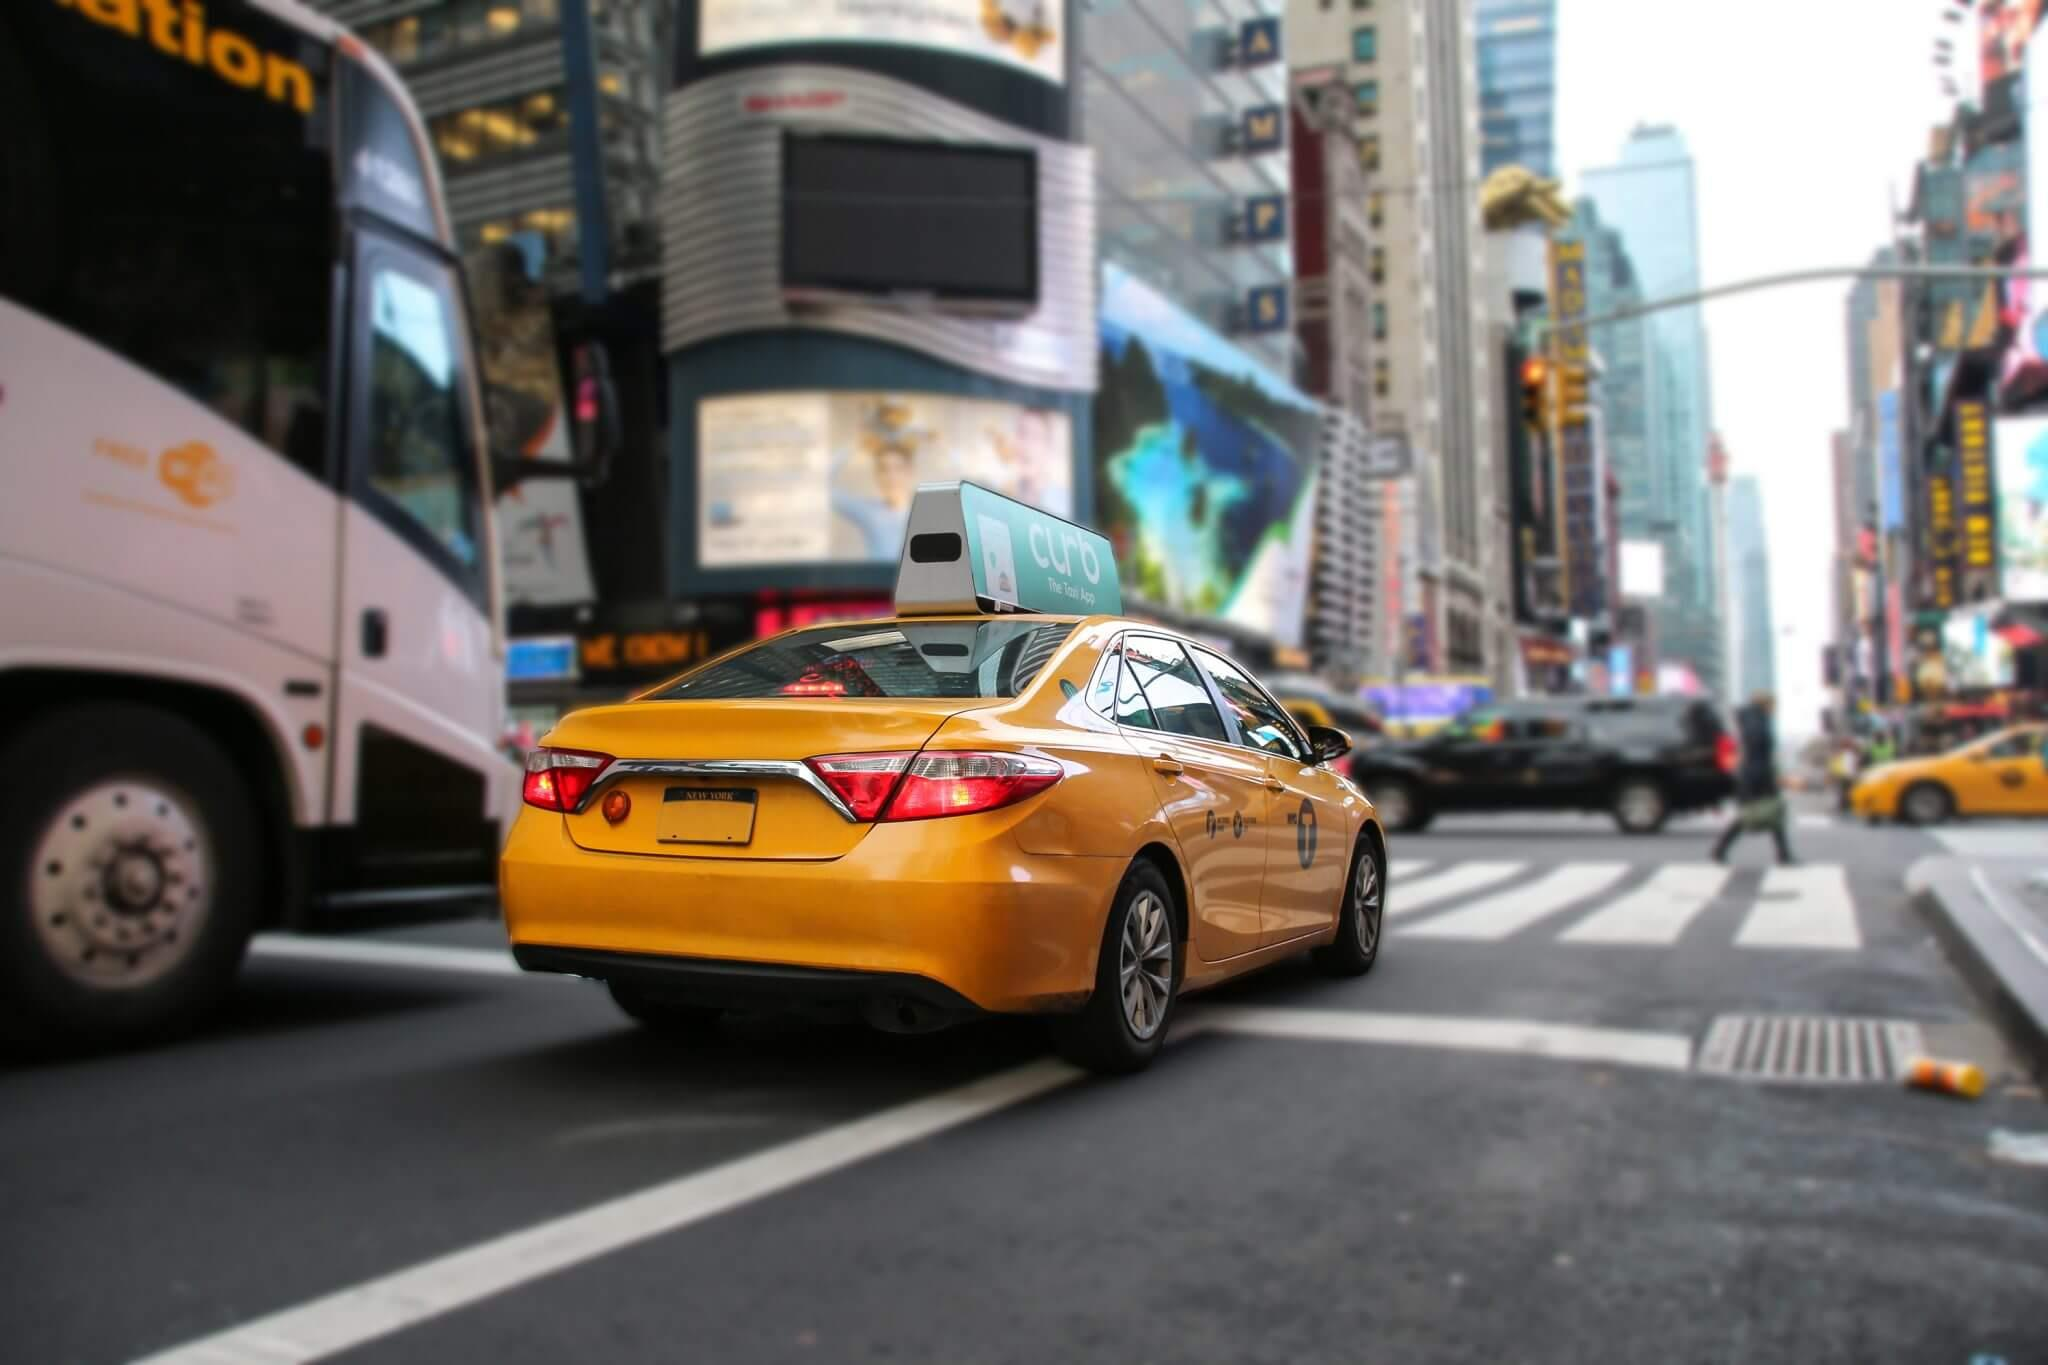taxi: (451, 614, 1447, 1071)
